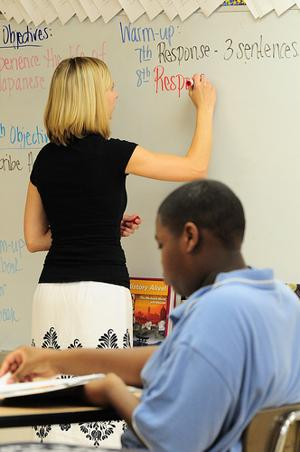person: (23, 54, 218, 350)
